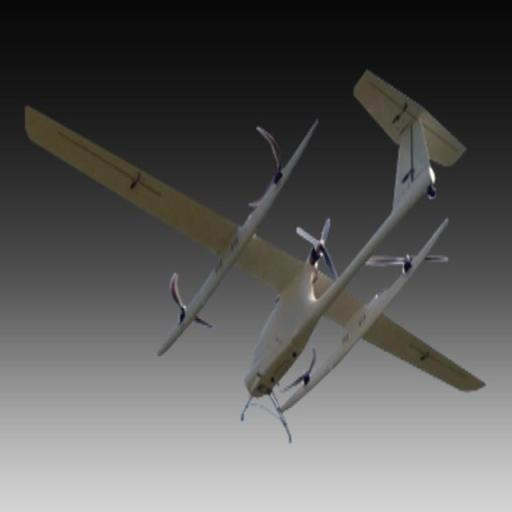uav: (18, 54, 502, 460)
